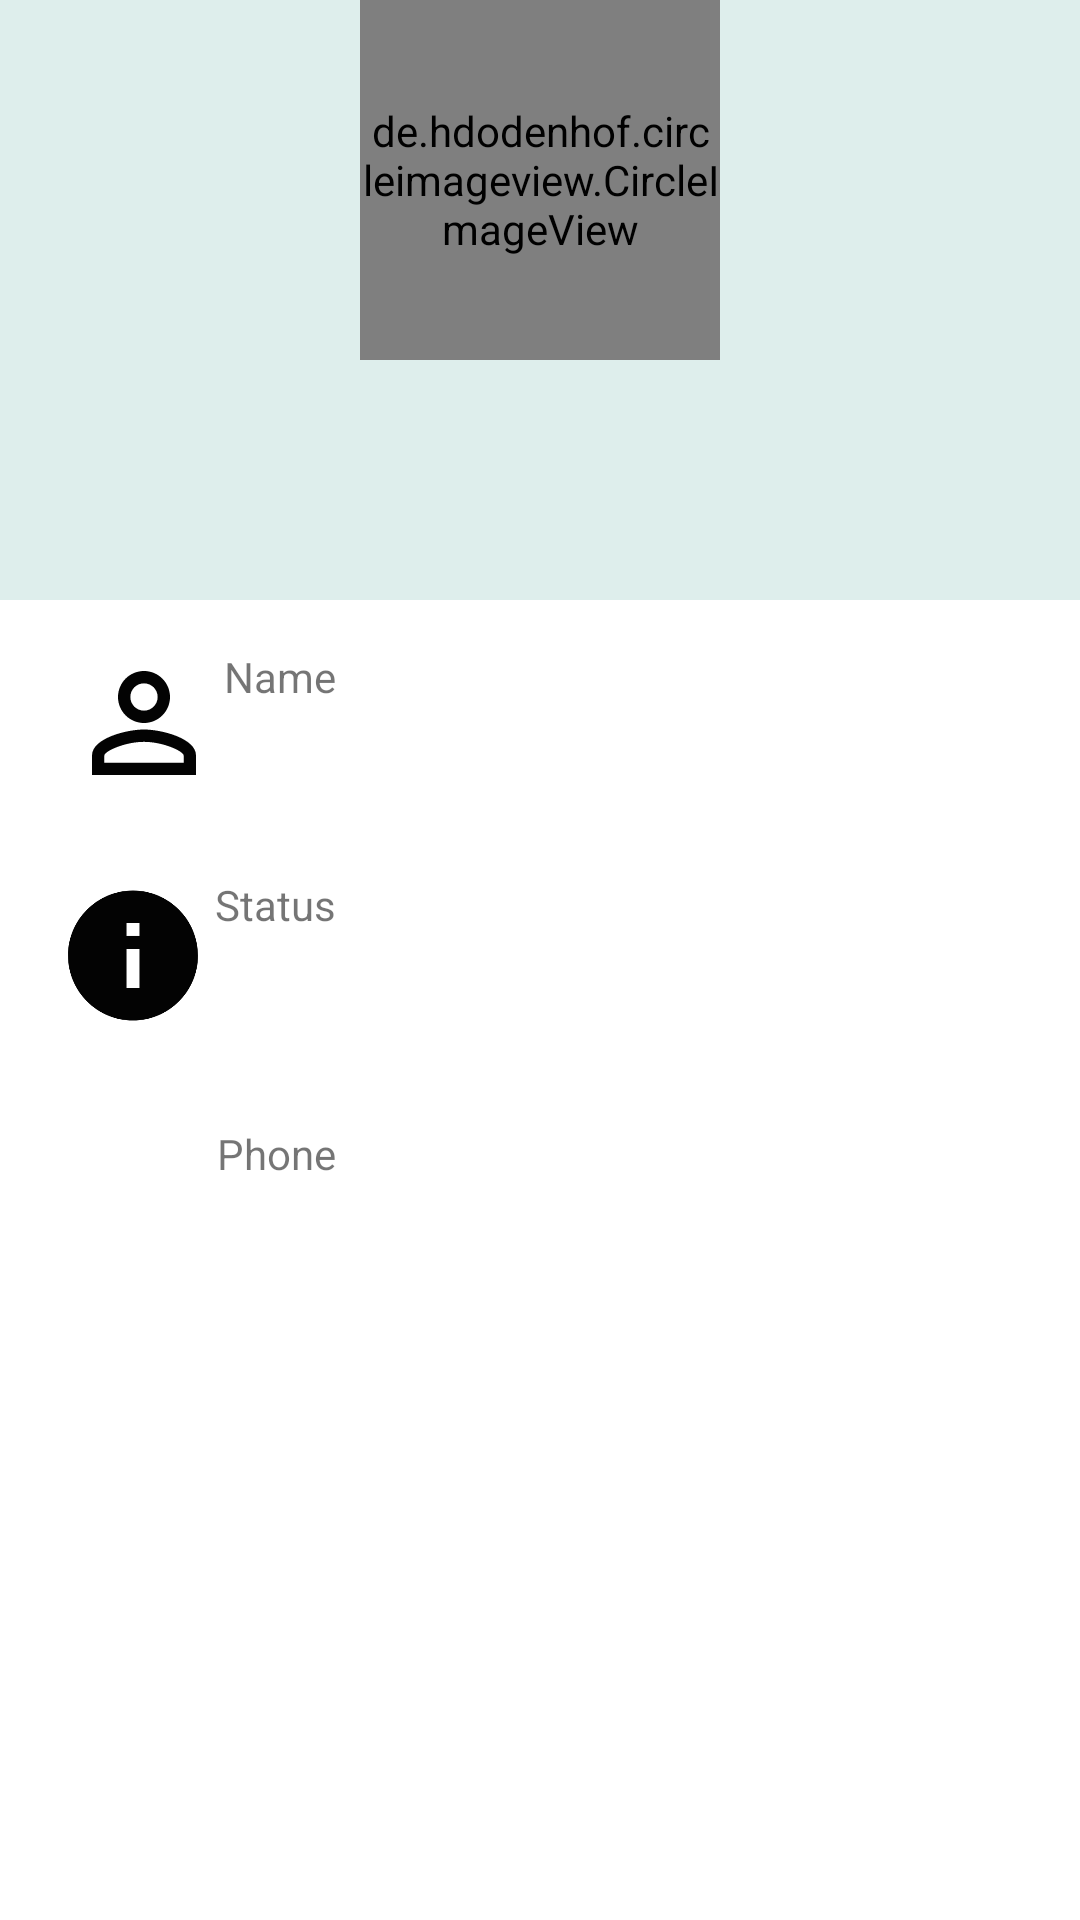

Icons on this 1080px x 1920px Android screen, each with its box as (x1=x1, y1=y1, x2=x2, y2=y2):
info: (x1=68, y1=890, x2=198, y2=1021)
person: (x1=92, y1=671, x2=196, y2=775)
